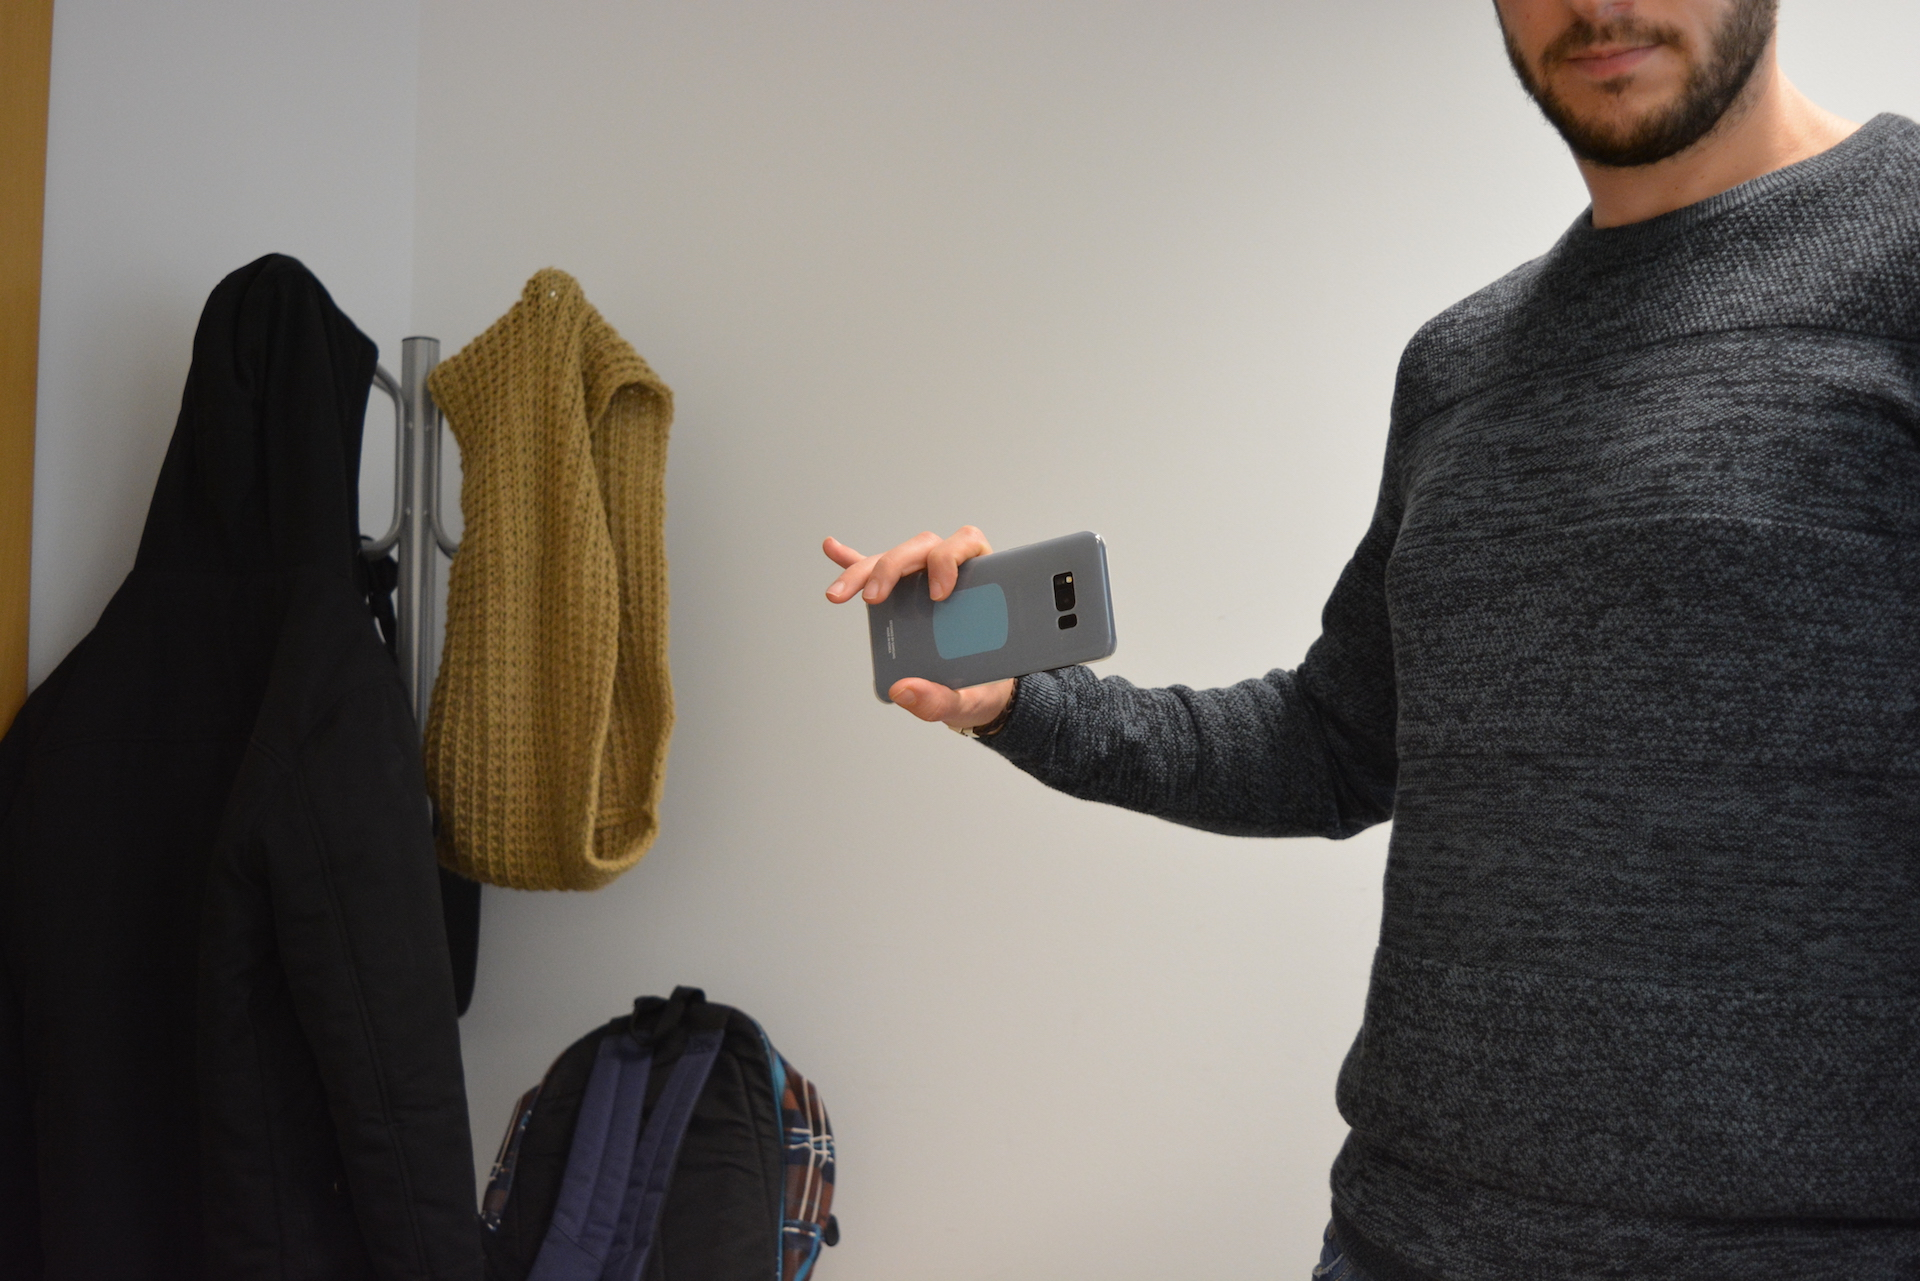smartphone: (863, 528, 1121, 708)
